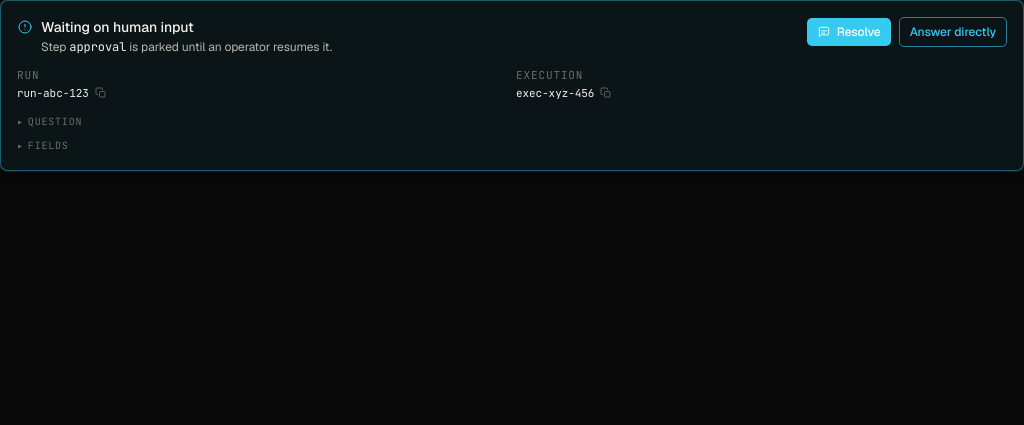
HumanInputGate › answering directly › submits a draftable gate through its draft once every required field is filled
The image size is (1024, 425).
Click the button with test id "human-input-gate-answer-directly". click: (953, 32)
box: 899,17 -> 1007,47
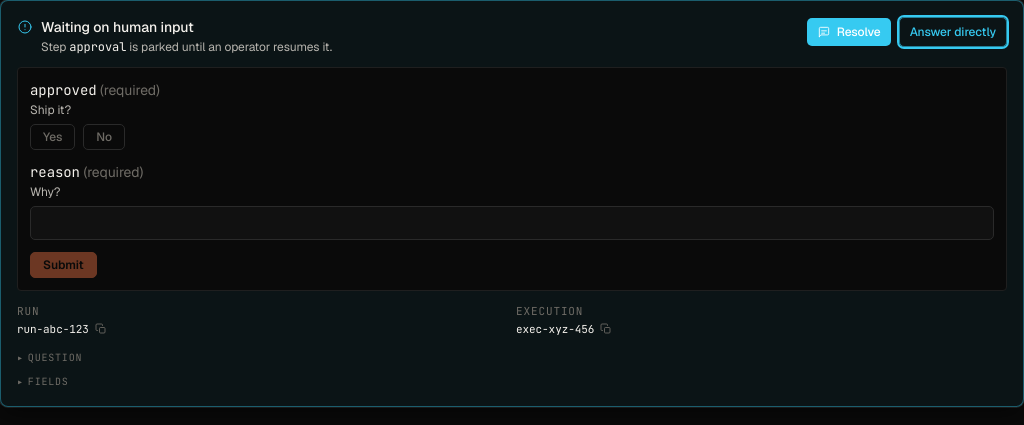
Check: the button with test id "human-input-gate-answer-form-submit" is disabled, box 30,252 -> 96,278
Click the radio button labelled "Yes". click: (53, 137)
box: 30,124 -> 75,150
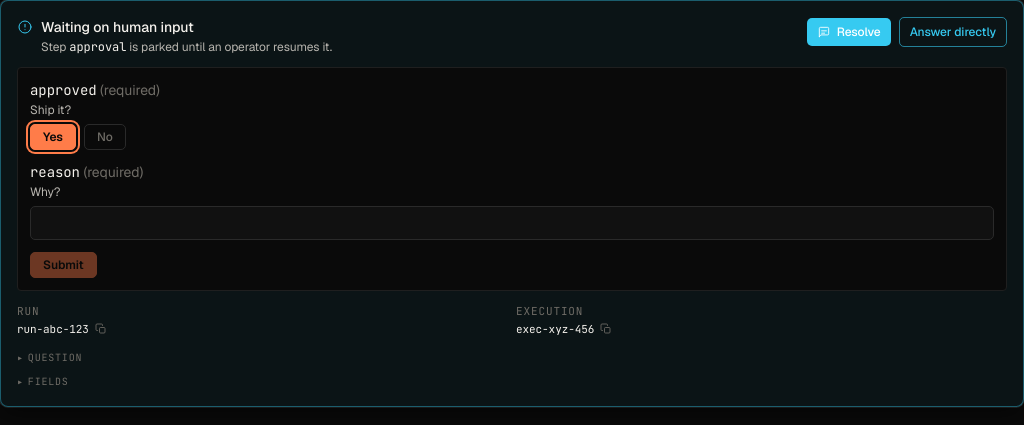
Check: the button with test id "human-input-gate-answer-form-submit" is disabled, box 30,252 -> 96,278
Type "Tested" into the field. click: (512, 223)
box: 30,206 -> 994,240
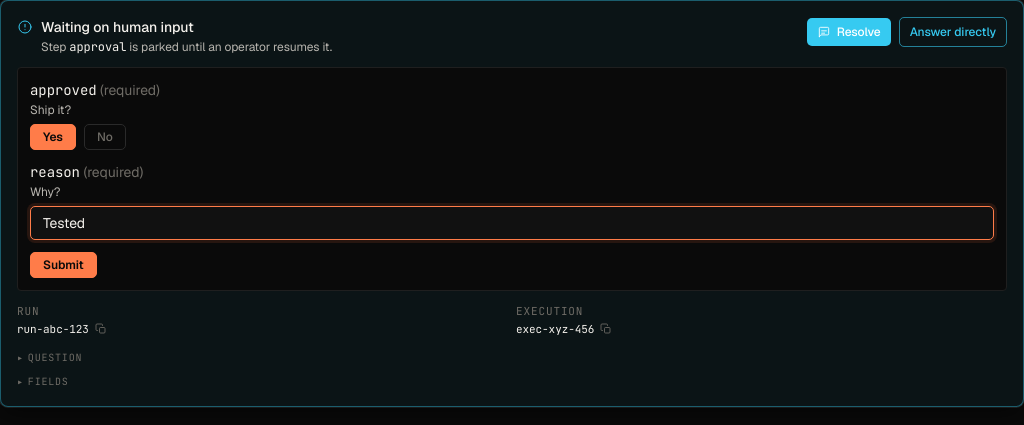
Check: the button with test id "human-input-gate-answer-form-submit" is enabled
Click the button with test id "human-input-gate-answer-form-submit". click: (63, 265)
box: 30,252 -> 96,278
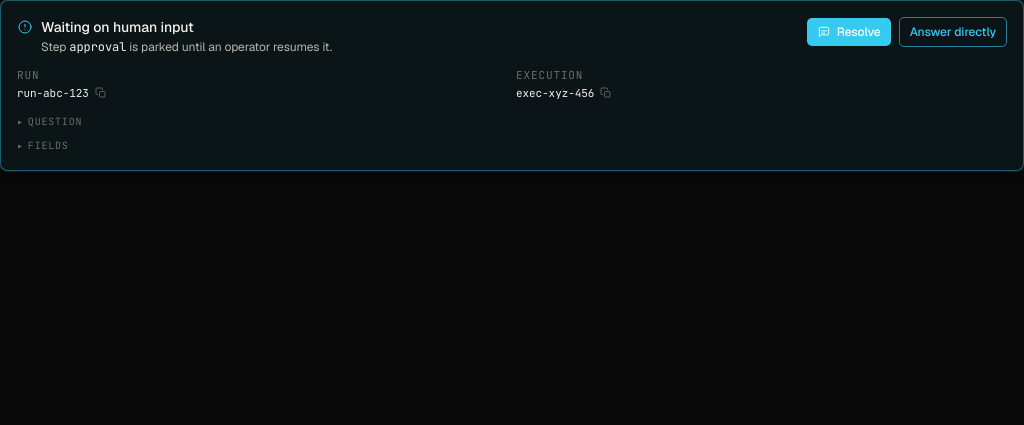
Check: the element with test id "human-input-gate-direct-answer" is gone
